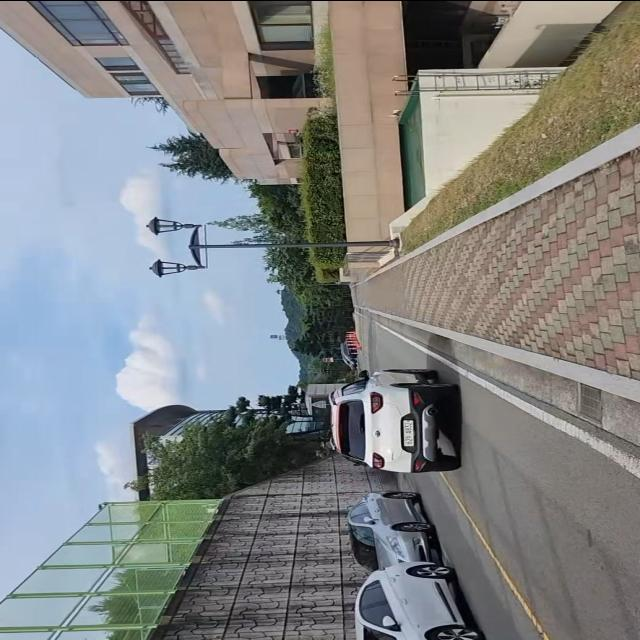obstacle: (318, 358, 465, 478), (140, 216, 397, 278), (356, 556, 504, 640), (335, 481, 447, 570)
road: (354, 308, 640, 640)
sidewalk: (352, 119, 640, 400)
